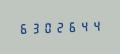four: (89, 18, 100, 32), (77, 19, 88, 32)
six: (17, 21, 28, 35), (65, 19, 76, 33)
three: (29, 21, 40, 34)
two: (53, 20, 64, 33)
zero: (41, 20, 52, 34)
